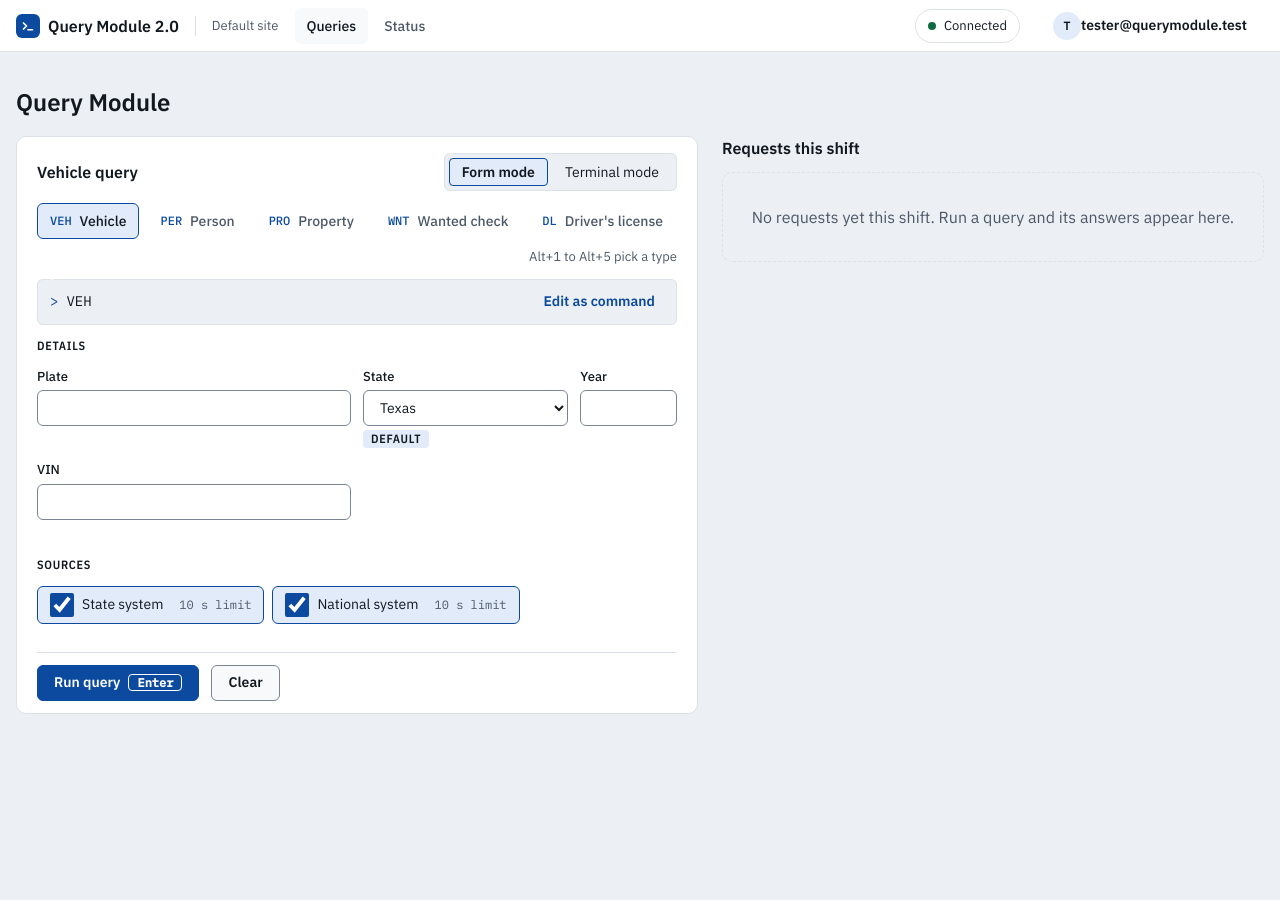
Test: edit as new query after a 409 (#477) › loads the kept values, drops what the config lost with a visible note, and focuses the form
Expected: the field labelled "Plate" is shown, [37,390,351,426]
In the field labelled "Year": [629, 408] box [580,390,677,426], type "2024"
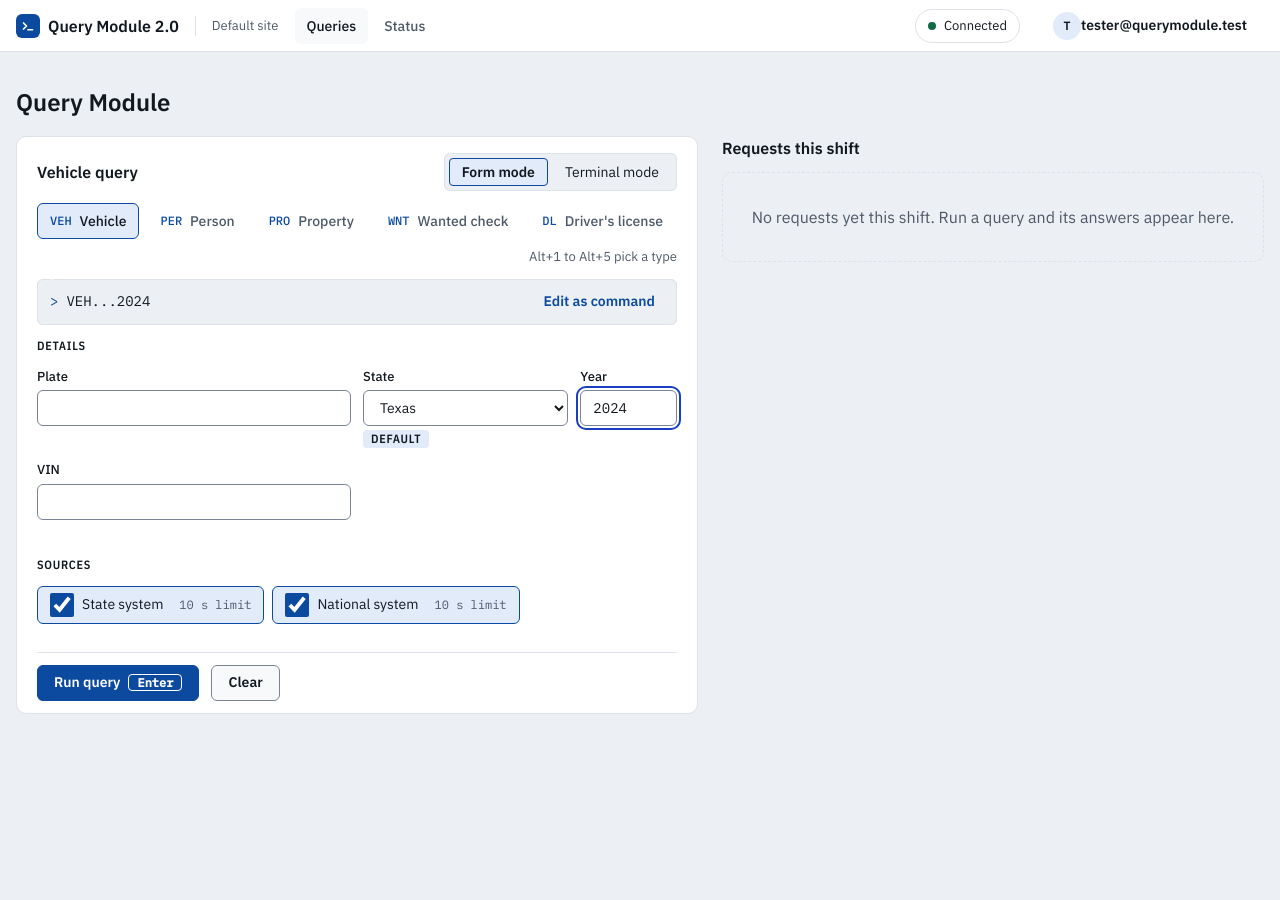
In the field labelled "Plate": [194, 408] box [37,390,351,426], type "ZZ-0001"
Then press Enter
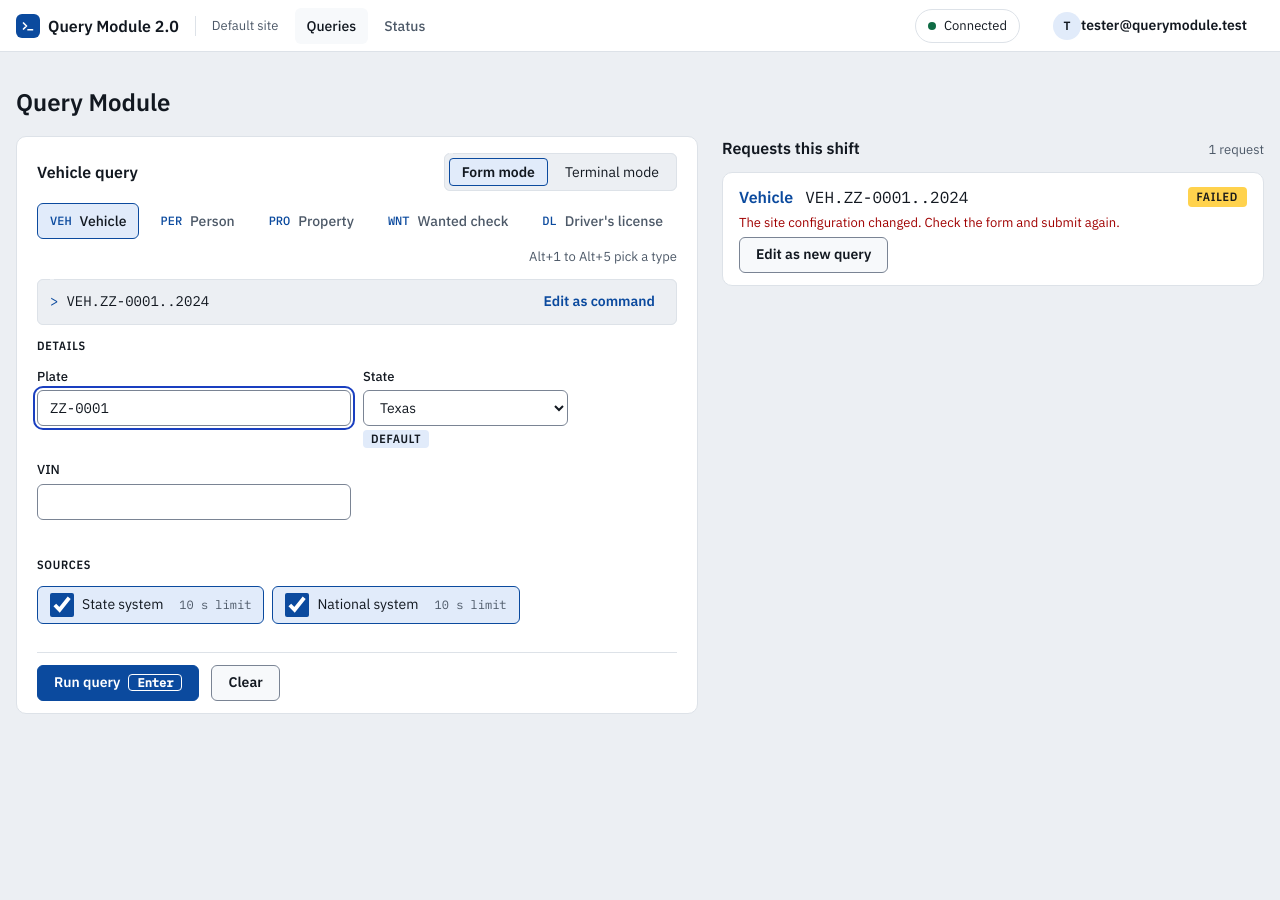
Expected: the button "Edit as new query" is shown, [739,237,888,273]
Expected: the label labelled "Year" is gone
Replace the text in the field labelled "Plate" with "ZZ-0009": [194, 408] box [37,390,351,426]
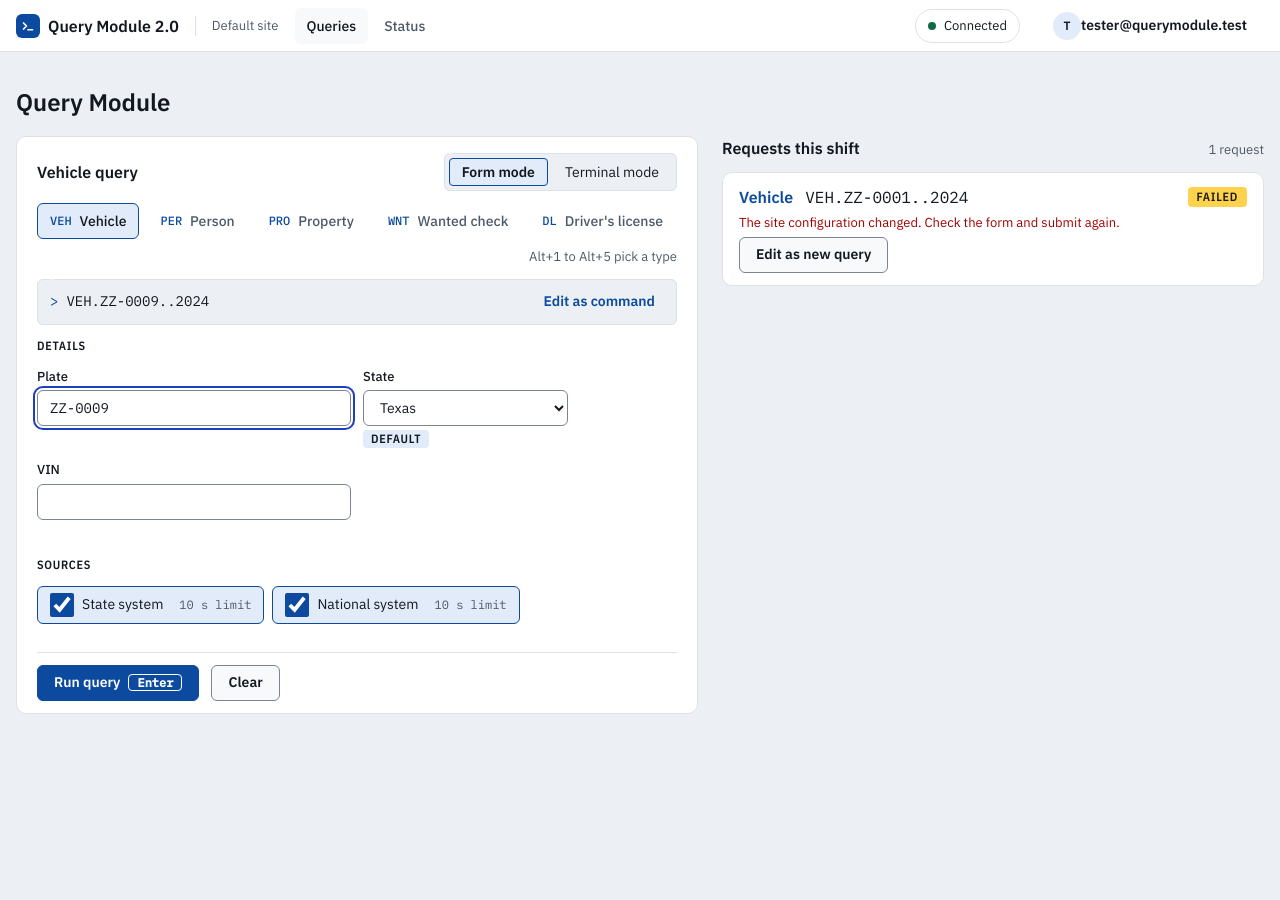
Click the button with aria-label "Edit as new query: Vehicle ZZ-0001": [814, 255] box [739,237,888,273]
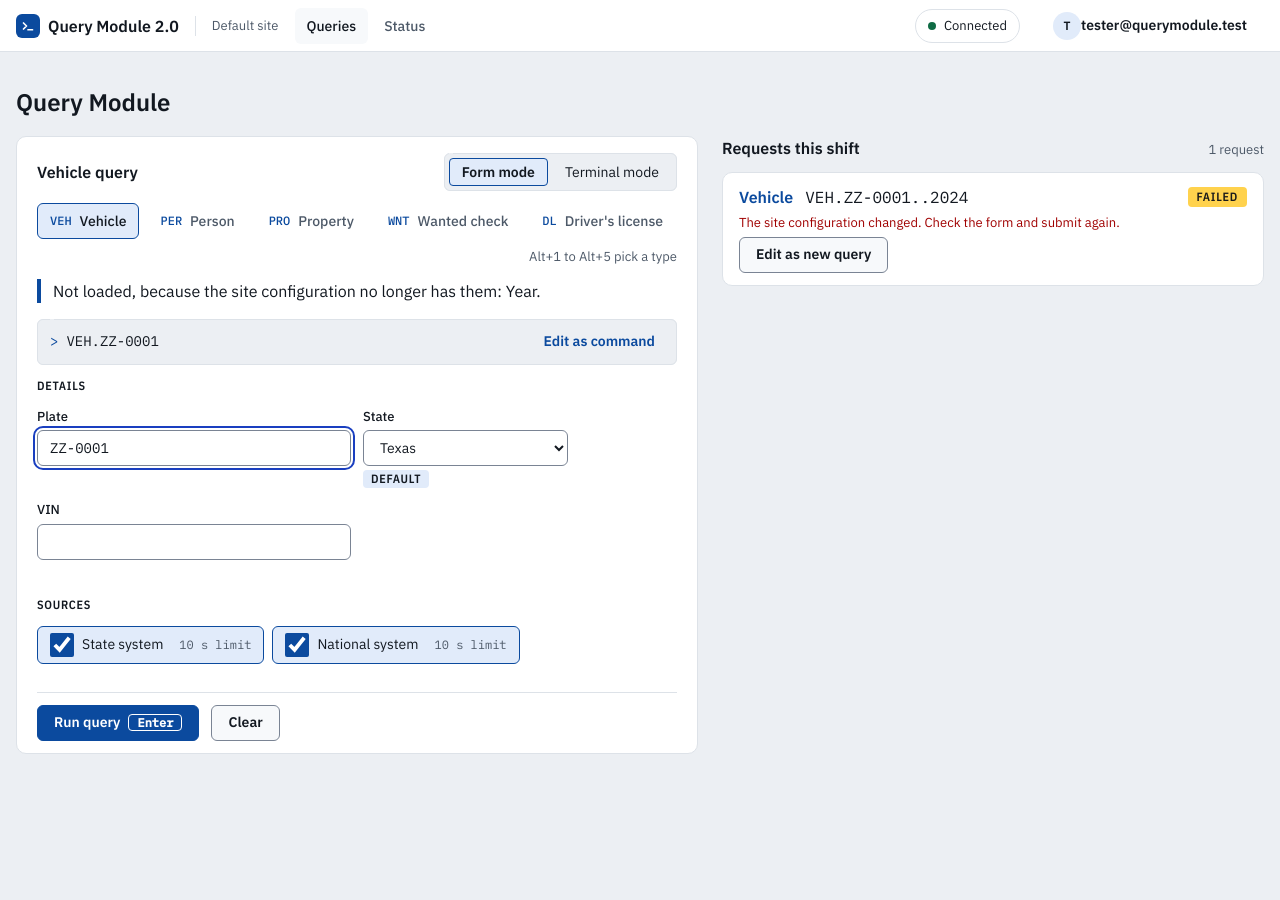
Expected: the text with test id "edit-as-new-note" does not show "2024", [37,279,677,303]
Expected: the text with test id "edit-as-new-note" shows "Not loaded", [53,281,541,301]
Expected: the text with test id "edit-as-new-note" shows "Year", [53,281,541,301]
